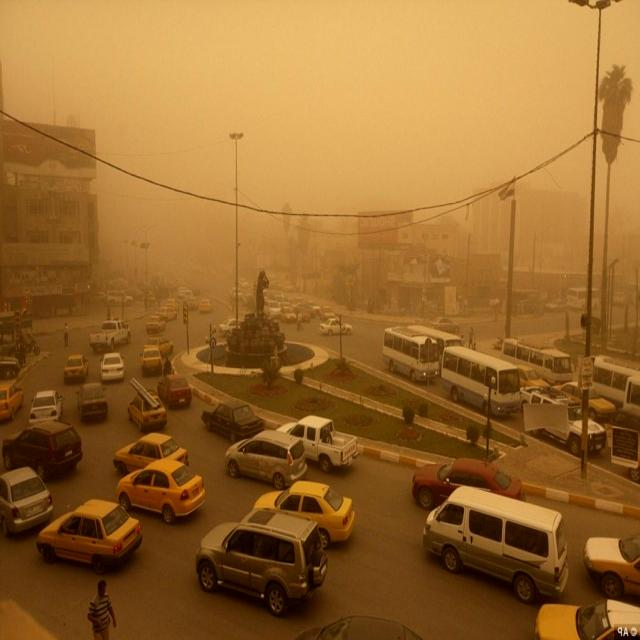Bus: (422, 489, 566, 603), (440, 338, 522, 419), (585, 350, 640, 419), (505, 335, 572, 385), (379, 328, 439, 382)
Car: (194, 516, 327, 618), (36, 498, 142, 568), (404, 456, 528, 512), (251, 481, 353, 544), (115, 458, 206, 522), (530, 388, 608, 453), (275, 417, 360, 473), (2, 417, 82, 473), (223, 434, 306, 486), (1, 457, 54, 534), (536, 602, 640, 640), (284, 615, 430, 640), (584, 533, 640, 597), (113, 434, 189, 476), (202, 400, 264, 440), (557, 379, 615, 412), (127, 389, 168, 429), (28, 384, 65, 427), (90, 319, 130, 353), (158, 374, 192, 408), (76, 384, 109, 418), (511, 360, 546, 390), (0, 381, 24, 422), (64, 355, 88, 383), (139, 345, 162, 374), (101, 354, 125, 381), (144, 335, 173, 352), (146, 314, 164, 332), (198, 298, 212, 314)
